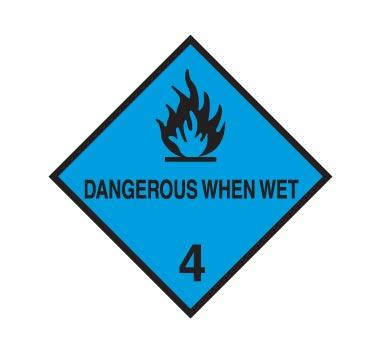Dangerous when wet: (48, 35, 332, 318)
